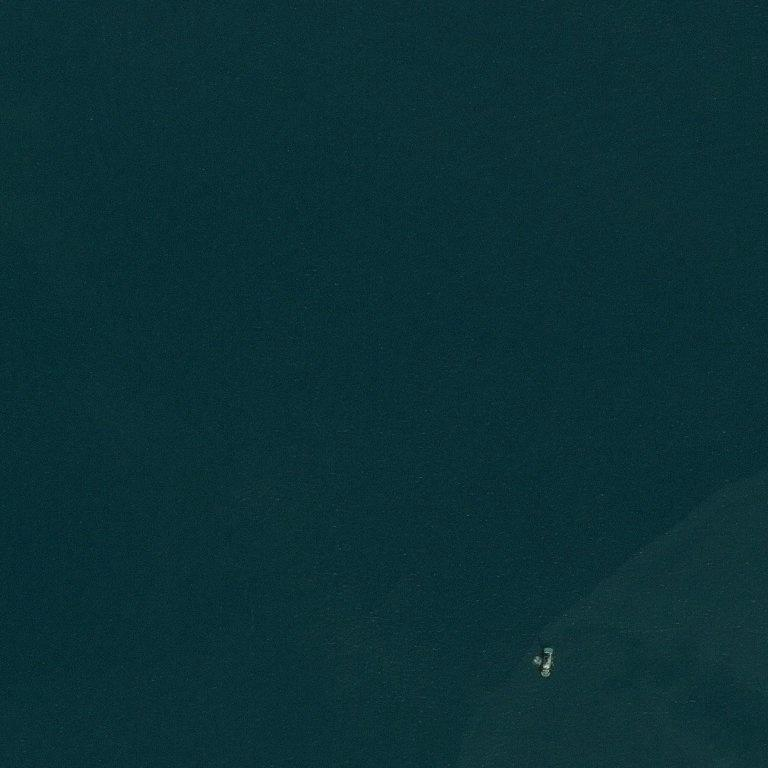ship: (539, 647, 555, 679)
